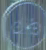bike lane: (2, 2, 45, 48)
